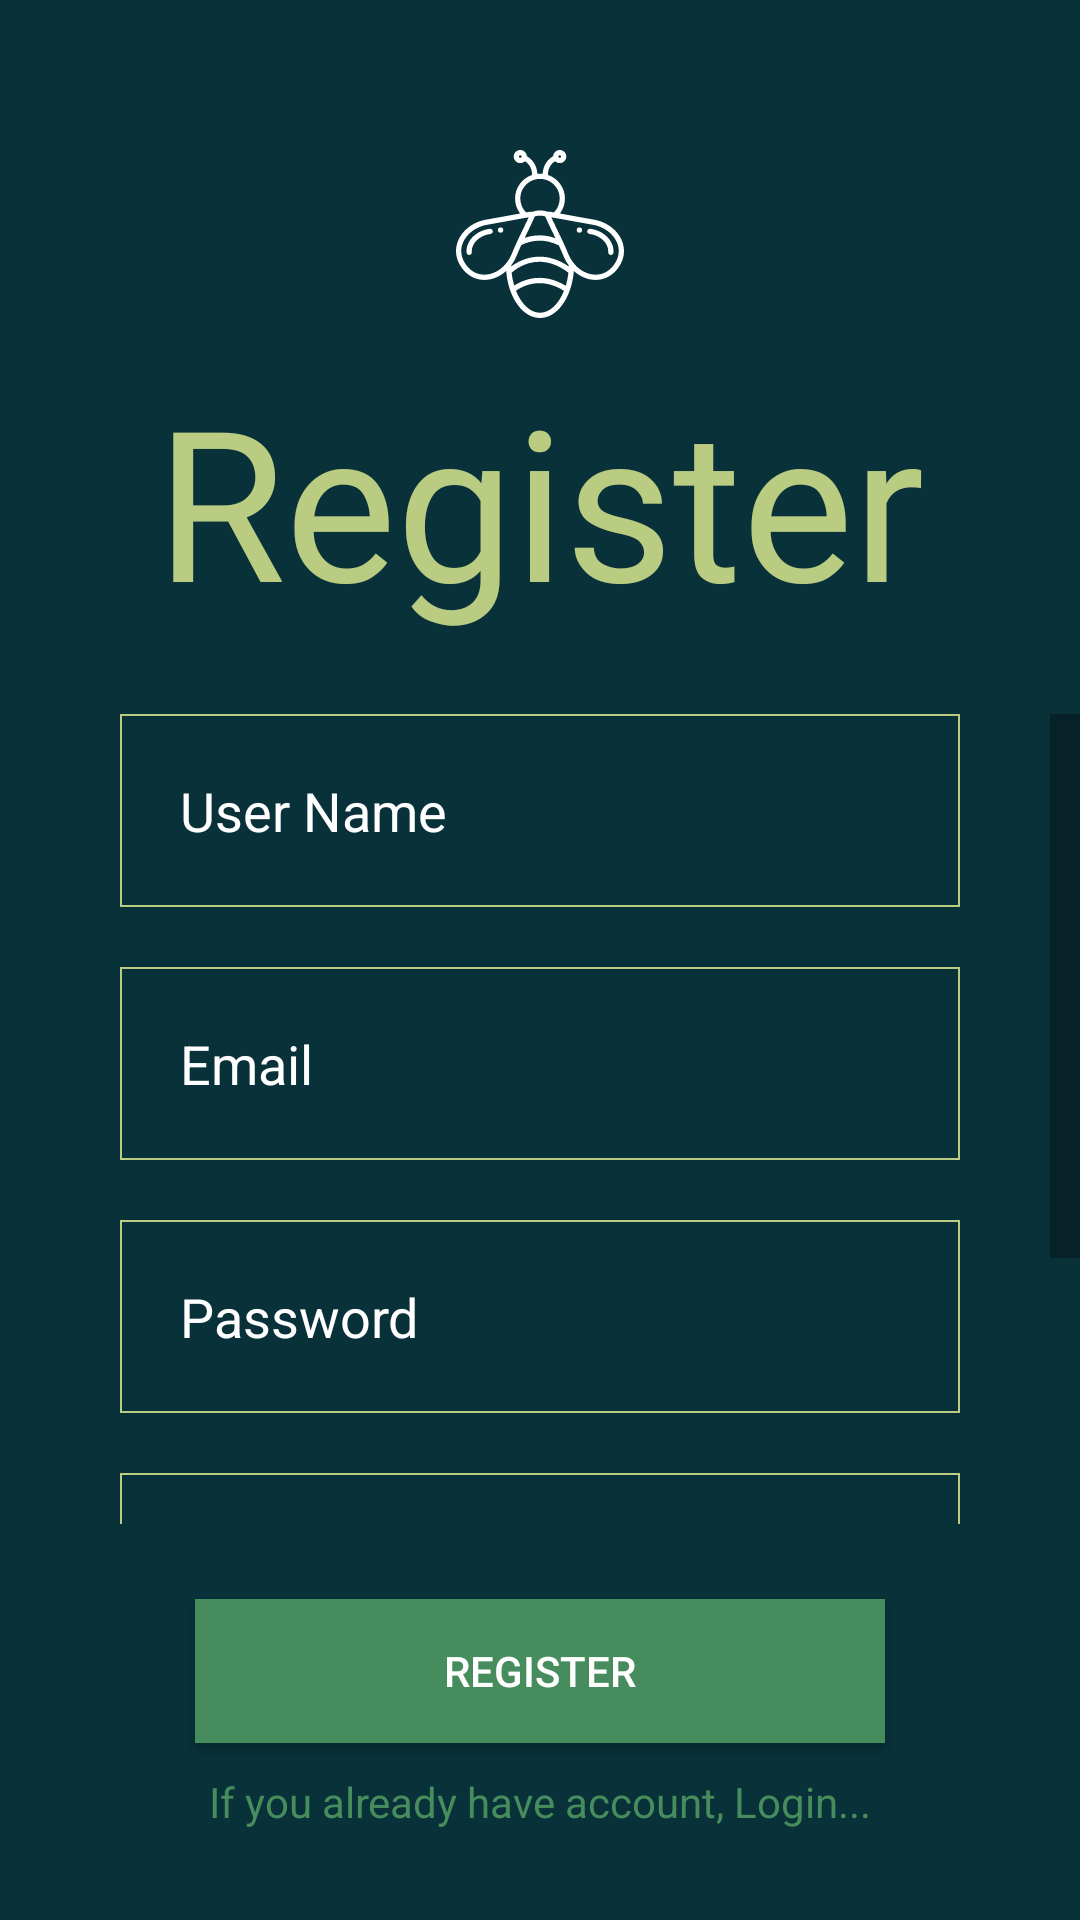

Named icons in this screenshot (1080w x 1920h) and their bounding boxes, (x1=x1, y1=y1, x2=x2, y2=y2):
noun bee: (x1=456, y1=150, x2=624, y2=318)
